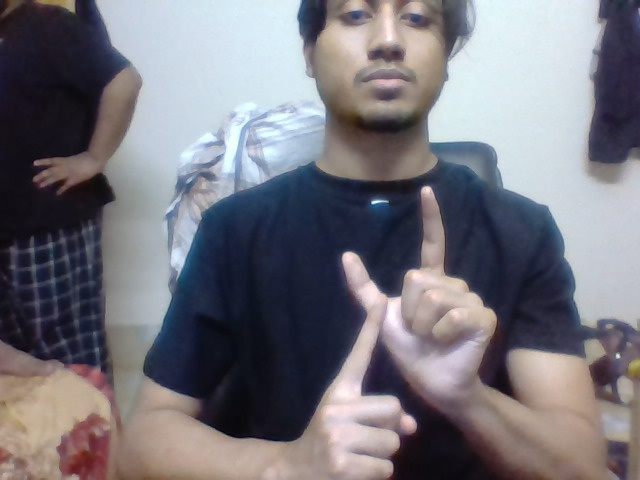Y: (329, 185, 451, 383)
